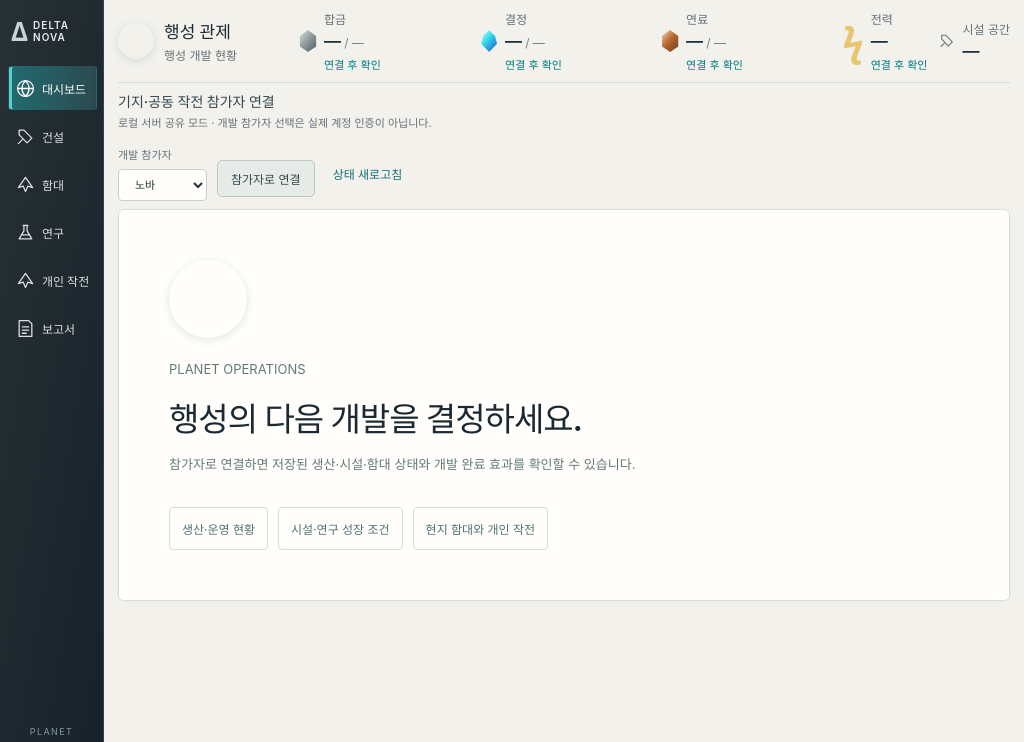
Test: describes higher defense research without misreporting propulsion effects
Click the button "참가자로 연결" at [266, 178], box [217,160,315,197]
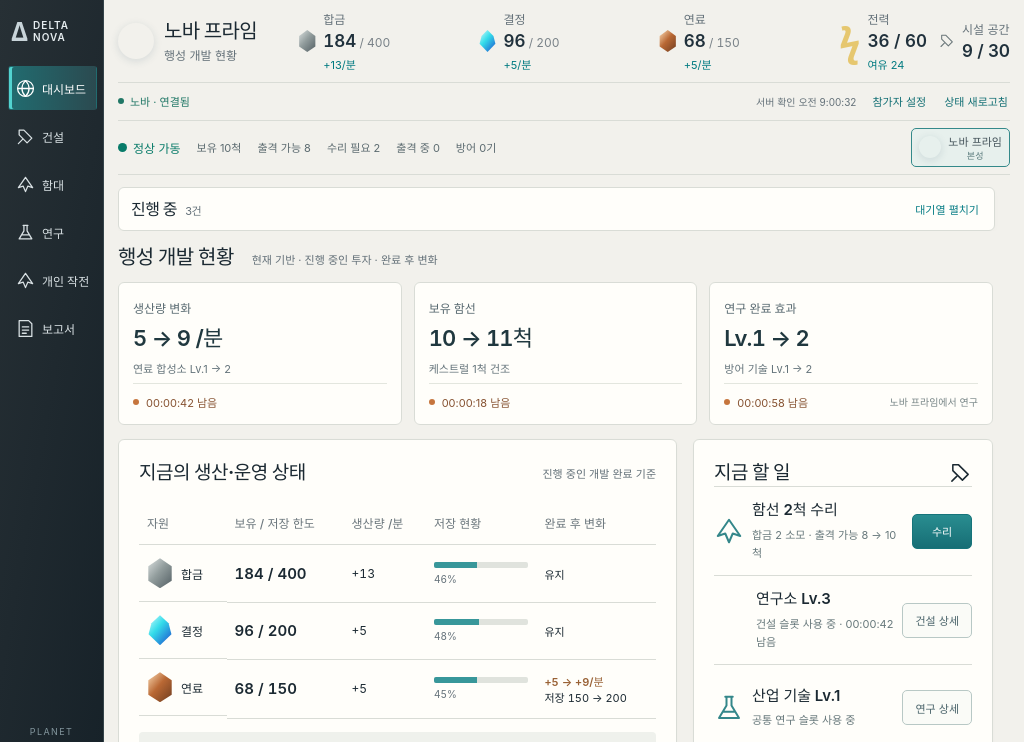
Expected: the heading "노바 프라임" is shown, [164,19,257,43]
Expected: the element named "개발 완료 효과" shows "방어 기술 Lv.1 → 2", [724,362,812,376]
